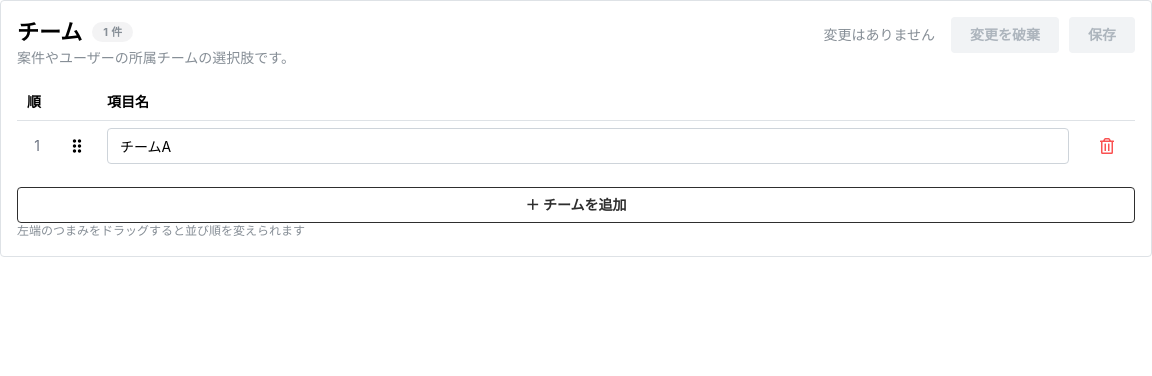
Scenario: optionRowsToSave › 編集パネルの表示（Issue #197） › 追加した行が複数あっても、ドラッグハンドルと削除ボタンの名前は行ごとに一意になる
The width and height of the screenshot is (1152, 376).
Click the button "＋ チームを追加" at (576, 205), box x1=17 y1=187 x2=1135 y2=223
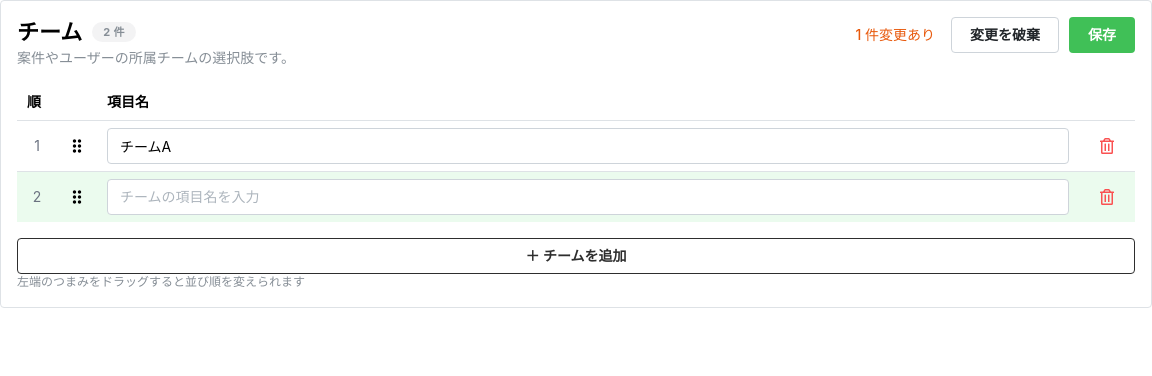
Click the button "＋ チームを追加" at (576, 256), box x1=17 y1=238 x2=1135 y2=274
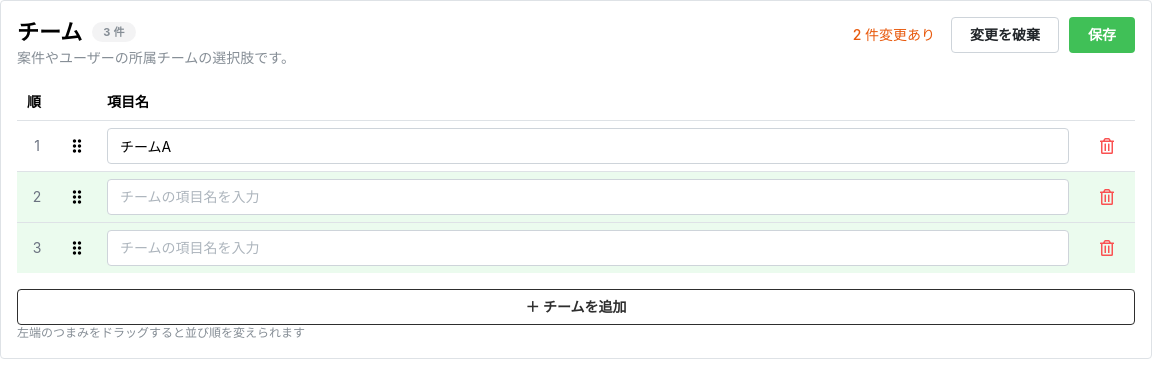
Expected: the button named "新しいチーム（2行目）の並び順を変更" is shown, x1=67 y1=187 x2=87 y2=207
Expected: the button named "新しいチーム（2行目）を削除" is shown, x1=1089 y1=179 x2=1125 y2=215
Expected: the button named "新しいチーム（3行目）の並び順を変更" is shown, x1=67 y1=238 x2=87 y2=258
